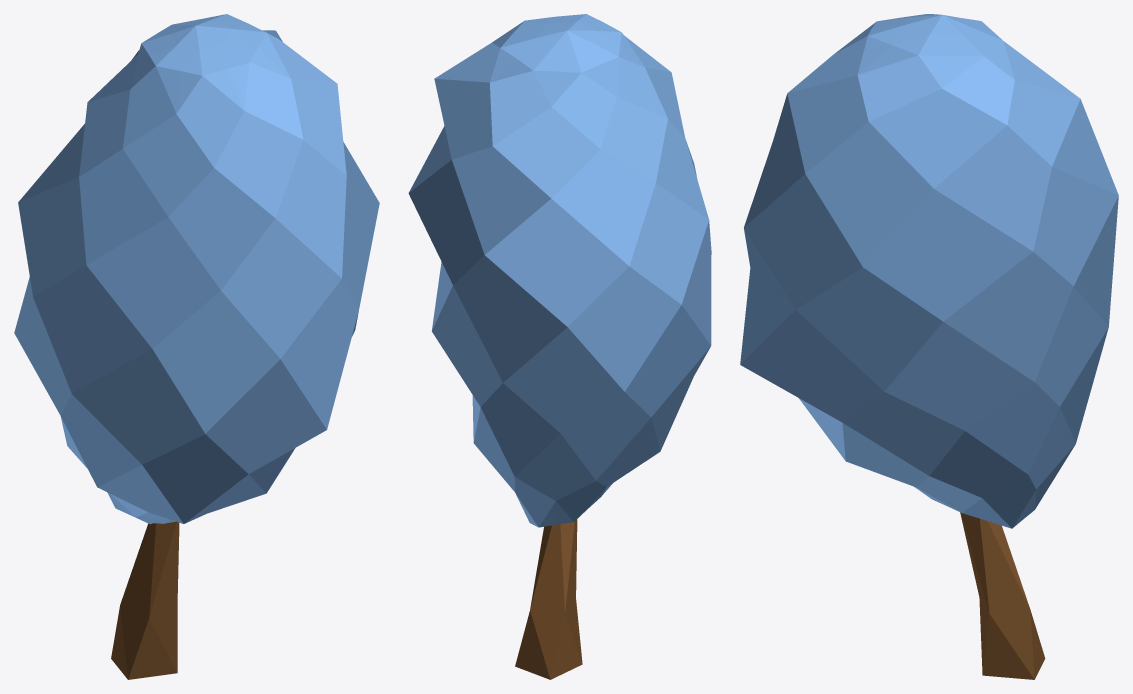
The model's file is Blue tree 3.fbx.
The picture shows the model from 3 angles, left to right: view 1: azimuth 30°, elevation 25°; view 2: azimuth 150°, elevation 25°; view 3: azimuth 270°, elevation 25°; orthographic projection. The views are drawn at different scales.
Visible parts, largest first — view 1: Cube.171; view 2: Cube.171; view 3: Cube.171.
Boxes of the visible parts, x1=… form: Cube.171: x1=14, y1=14, x2=379, y2=679; Cube.171: x1=408, y1=14, x2=711, y2=679; Cube.171: x1=740, y1=14, x2=1118, y2=679.
Bounding box in the file's own units: 580 × 1276 × 664.
